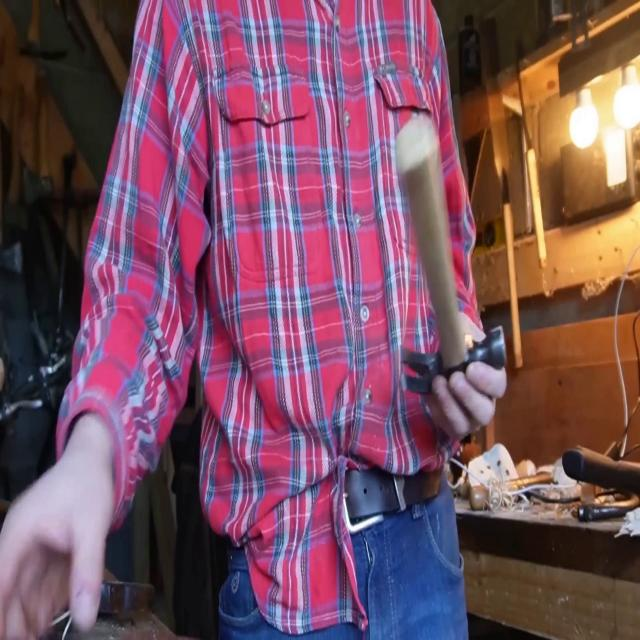hammer: (396, 114, 506, 397)
